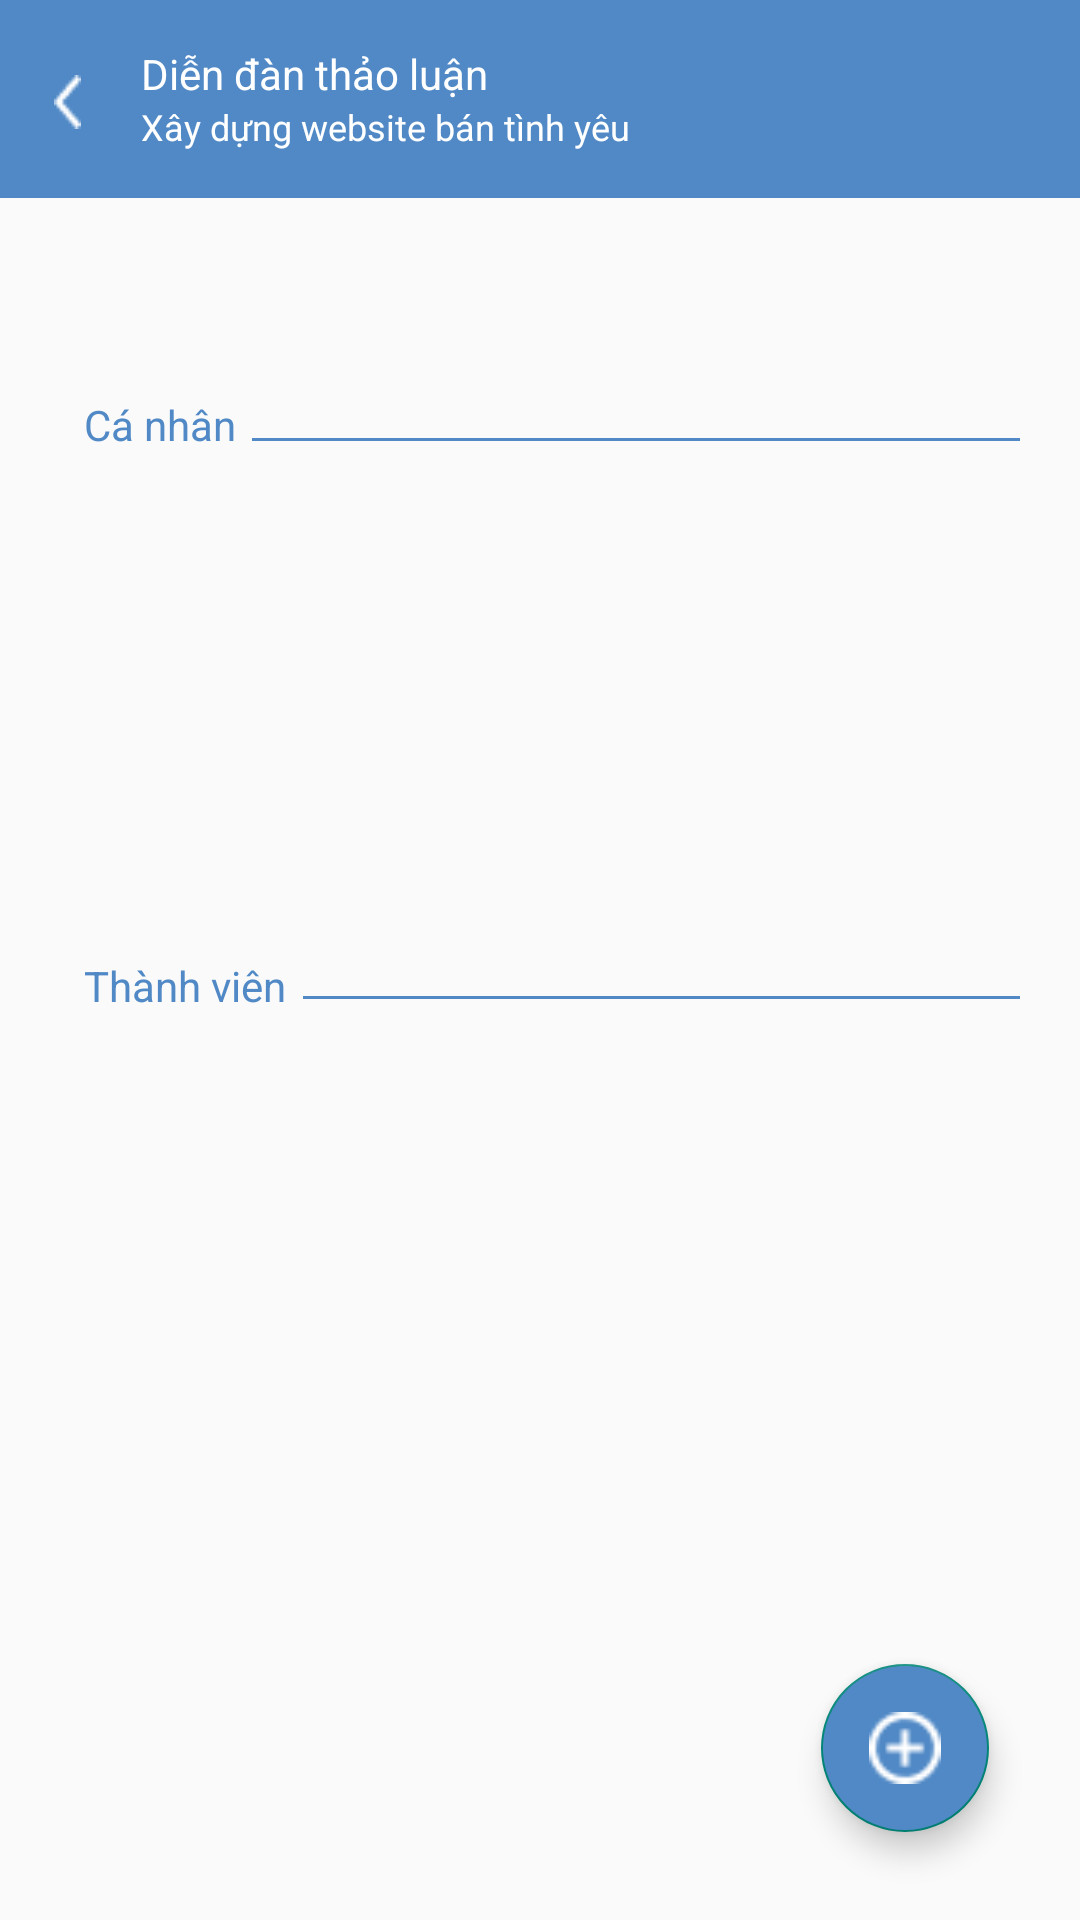

Icon click points for this 1080x1920 phone screenshot, format (x,y):
addnew: (905,1748)
back: (67,102)
